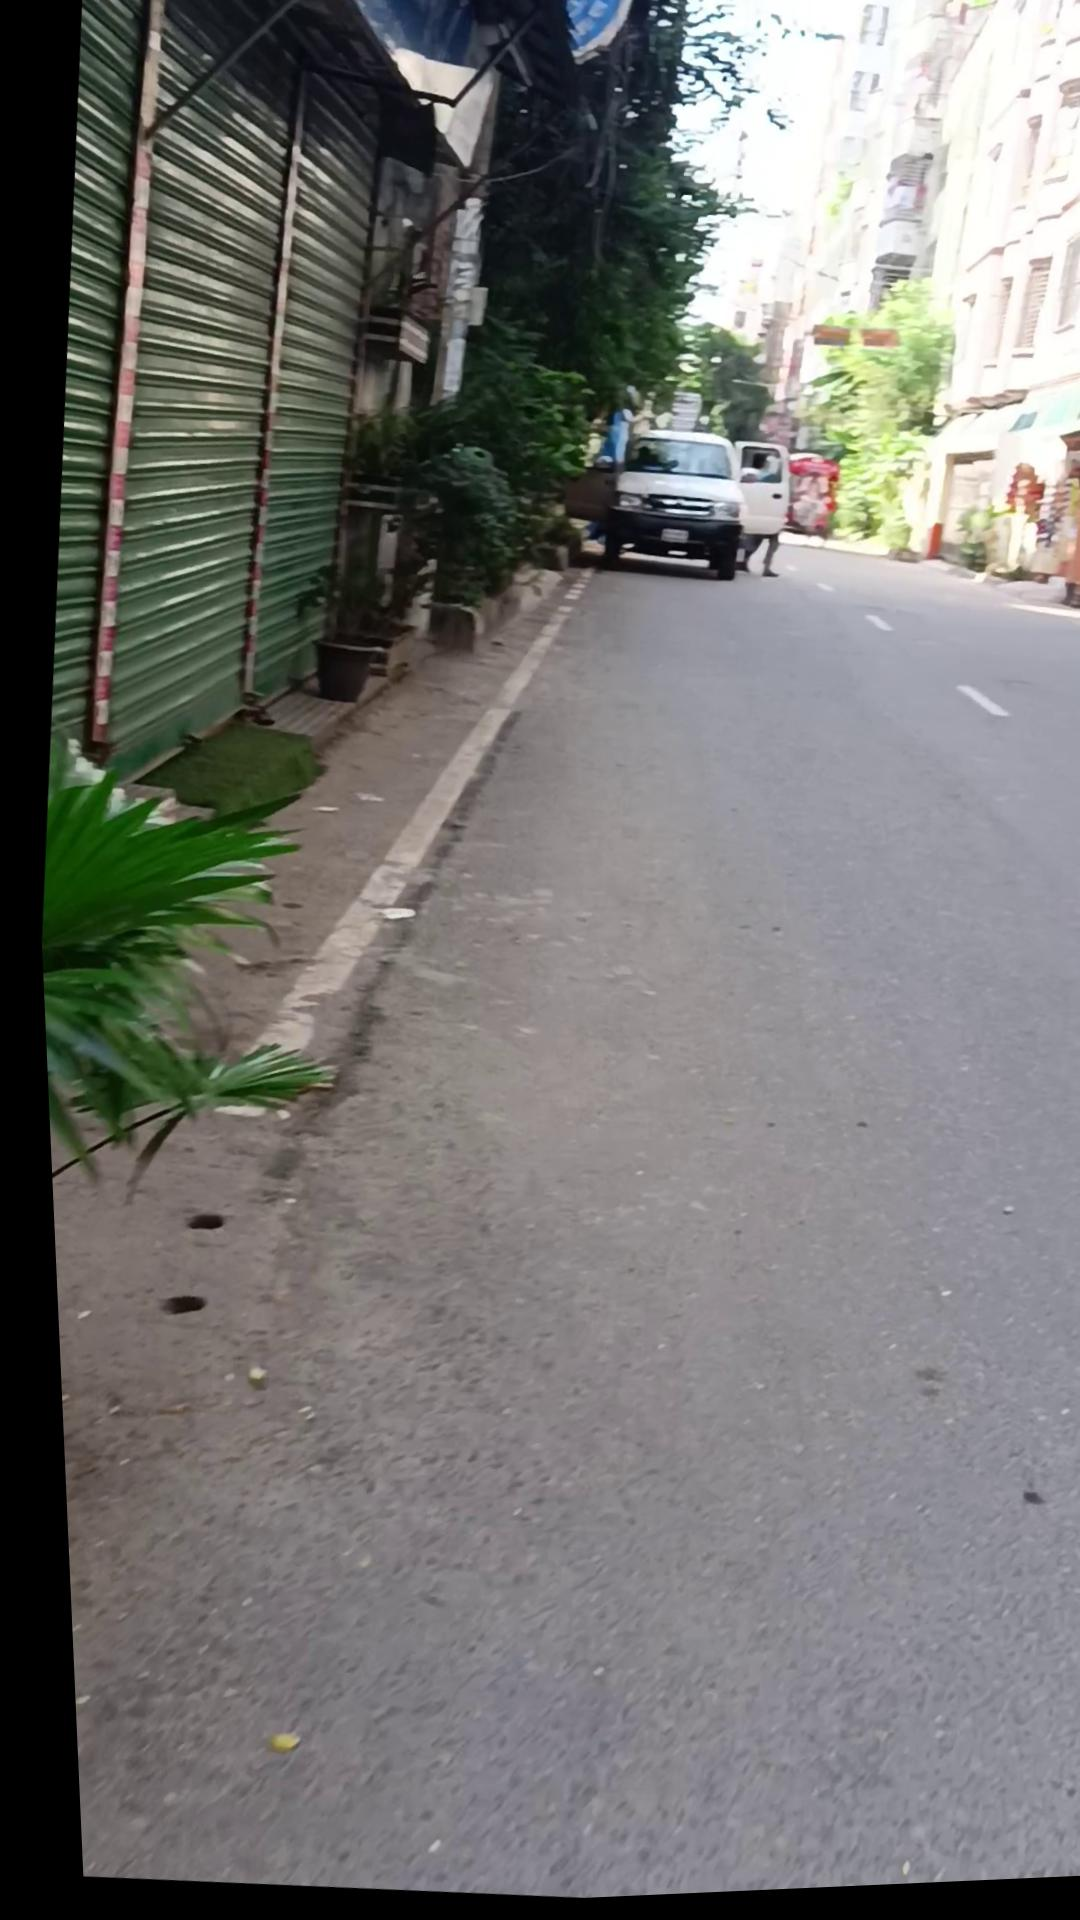Bollard: (576, 425, 749, 592)
Broken-road: (400, 510, 572, 683)
Fallen-tree: (25, 720, 361, 1229), (392, 440, 526, 663), (286, 558, 400, 712), (942, 502, 1010, 584)
Light-pole: (778, 269, 964, 571)
